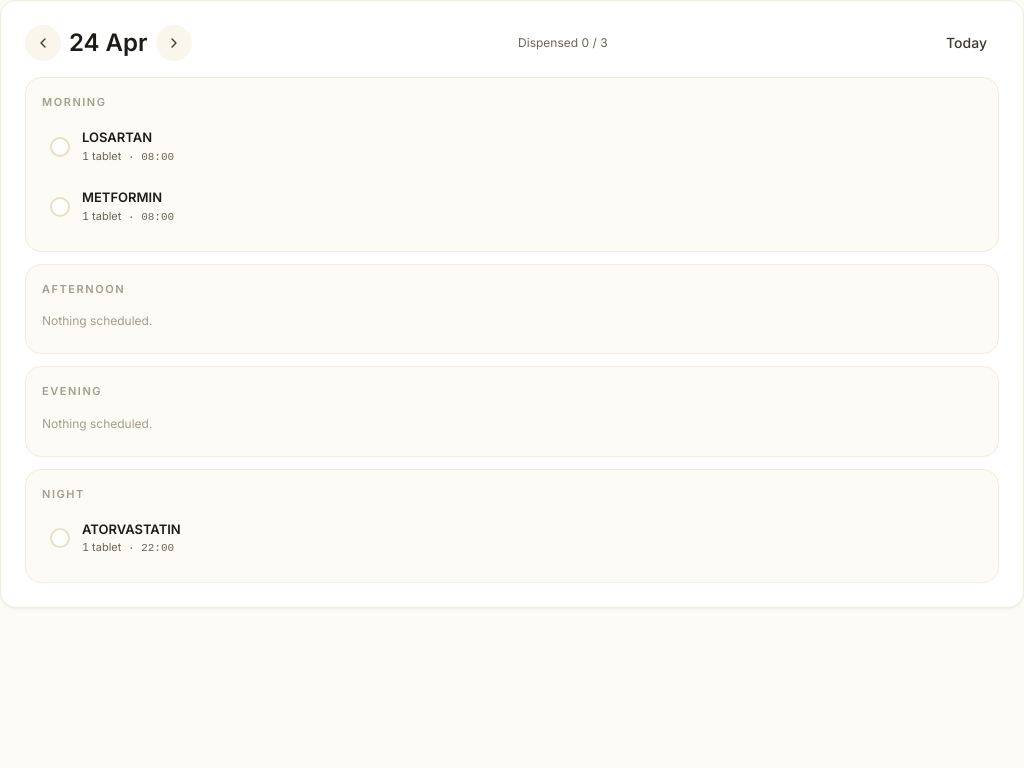
DailyPillbox › clicking 'Next day' shifts the header date forward and resets ticks
Click the checkbox labelled "LOSARTAN 1 tablet · 08:00": (117, 137) [42,118,982,174]
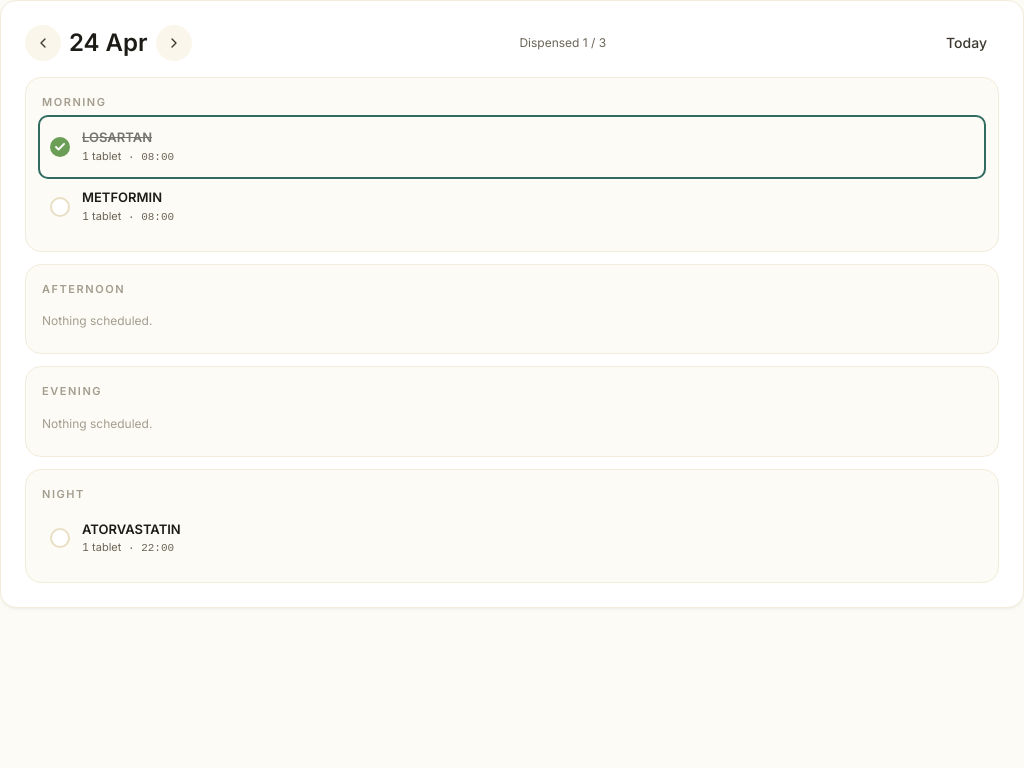
Click the button named "next day": (174, 43) [156,25,192,61]
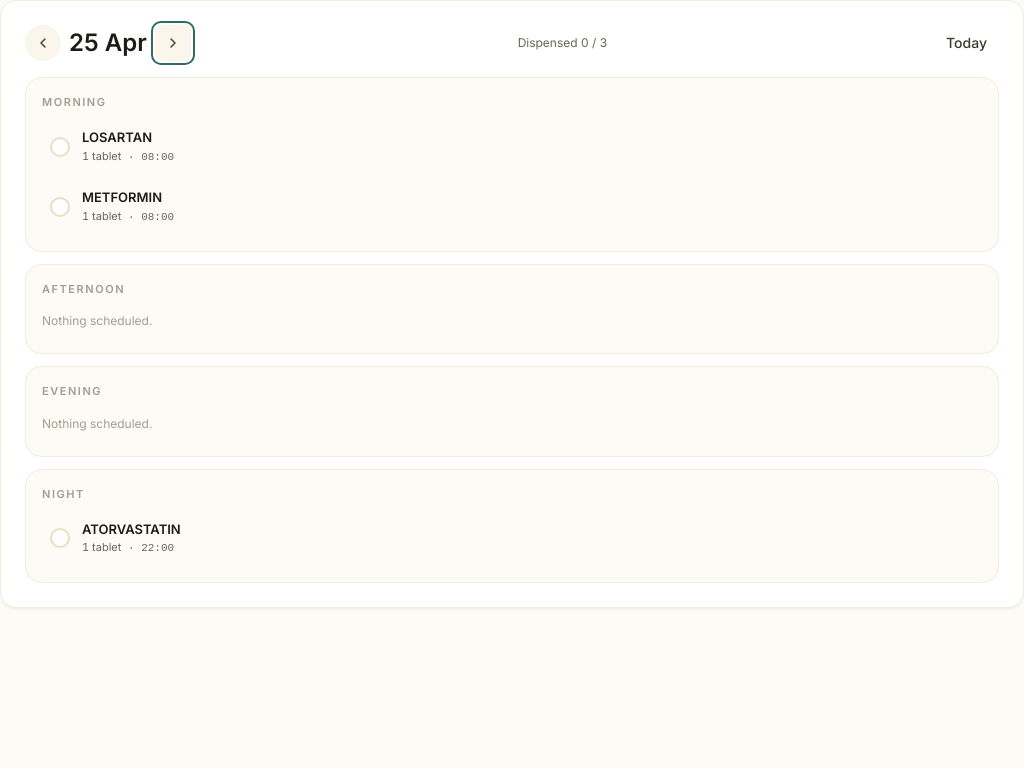
Expected: the text with test id "pillbox-header-date" reads "25 Apr", [69,28,147,57]
